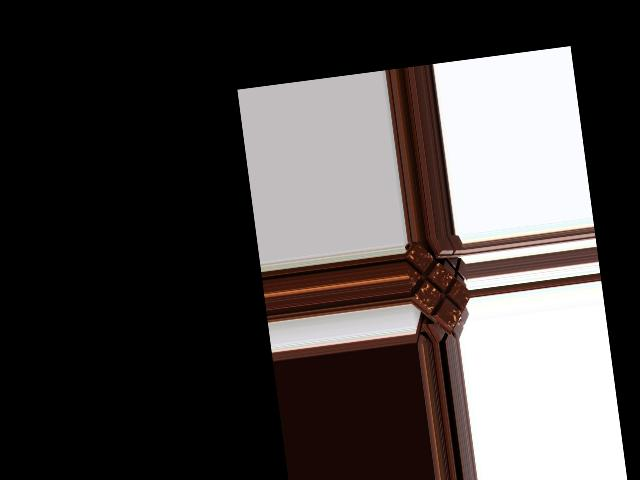chocolate: (403, 237, 472, 332)
